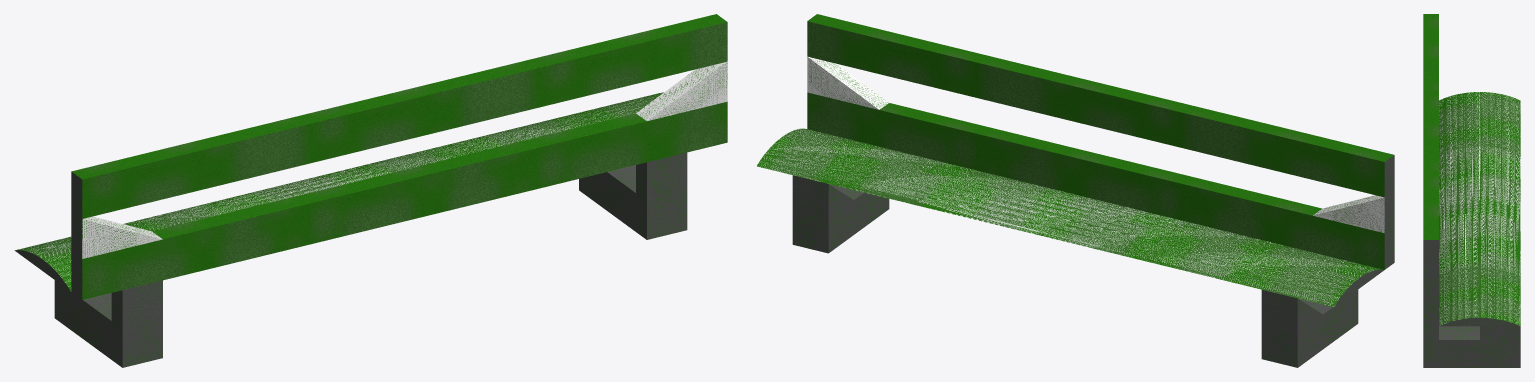
The model's file is chaise_dae.dae.
The picture shows the model from 3 angles, left to right: view 1: azimuth 30°, elevation 25°; view 2: azimuth 150°, elevation 25°; view 3: azimuth 270°, elevation 25°; orthographic projection. The views are drawn at different scales.
Parts seen in each view (by area): view 1: SketchUp (×6); view 2: SketchUp (×6); view 3: SketchUp (×3).
Boxes of the visible parts, x1,y1,x2,y2 form: SketchUp (×6): (14, 14, 727, 367); SketchUp (×6): (757, 14, 1394, 367); SketchUp (×3): (1423, 14, 1520, 367).
Size of the model in its own units: 66.93 by 12.18 by 19.66.
Materials: 3 (1 with a texture image).
